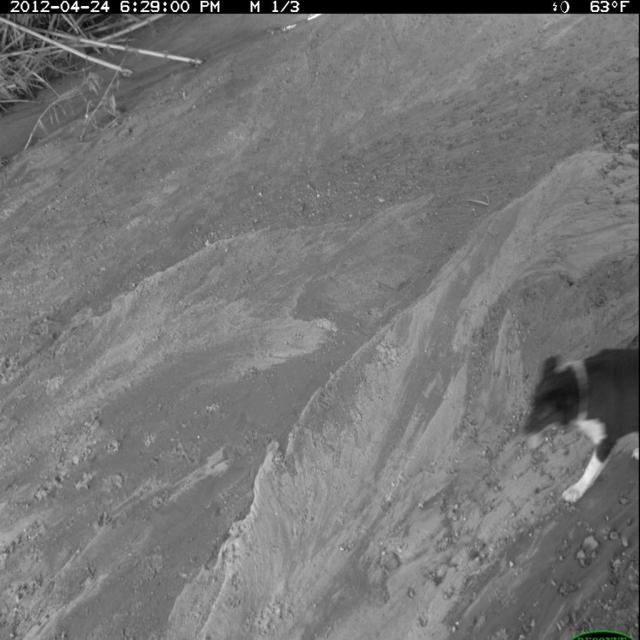dog: (520, 345, 640, 507)
